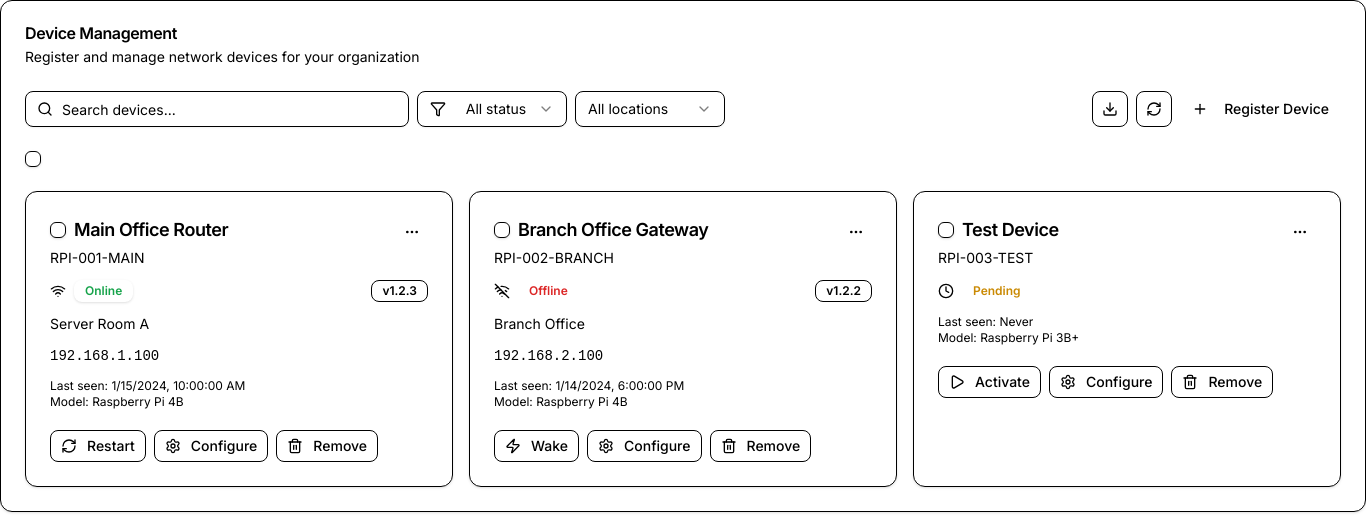
Test case: DeviceRegistration › Search and Filter › should provide search functionality
Type "Main" into the field with placeholder "Search devices..." at coordinates (217, 109), box [25,91,409,127]
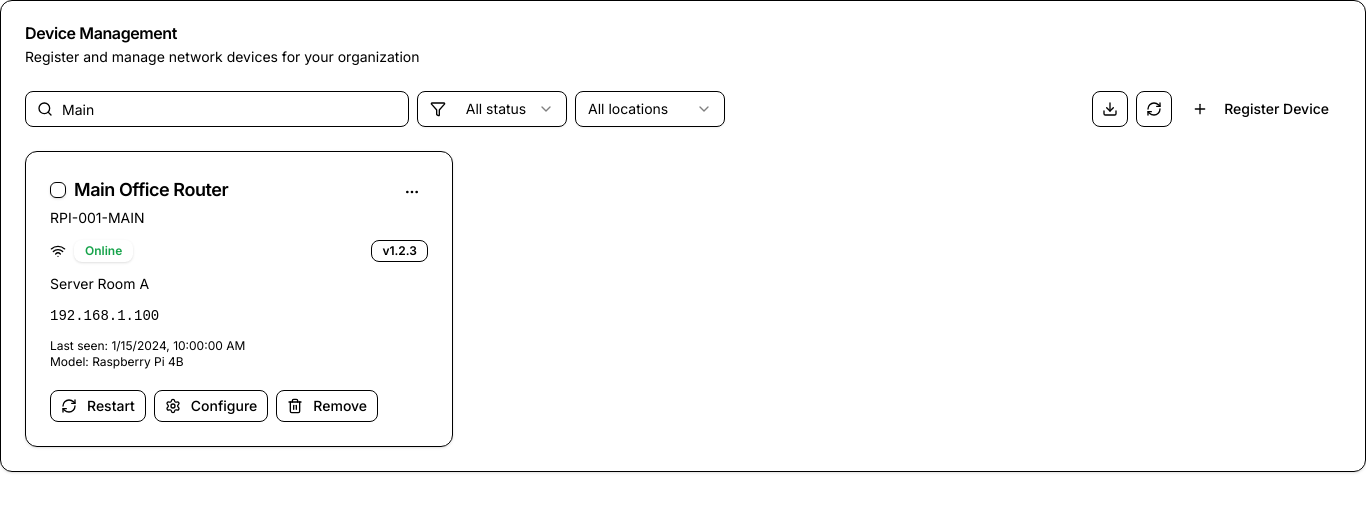
Expected: the element with test id "device-card-device-1" is shown, [25,151,453,447]
Result: the element with test id "device-card-device-2" is gone
Result: the element with test id "device-card-device-3" is gone
